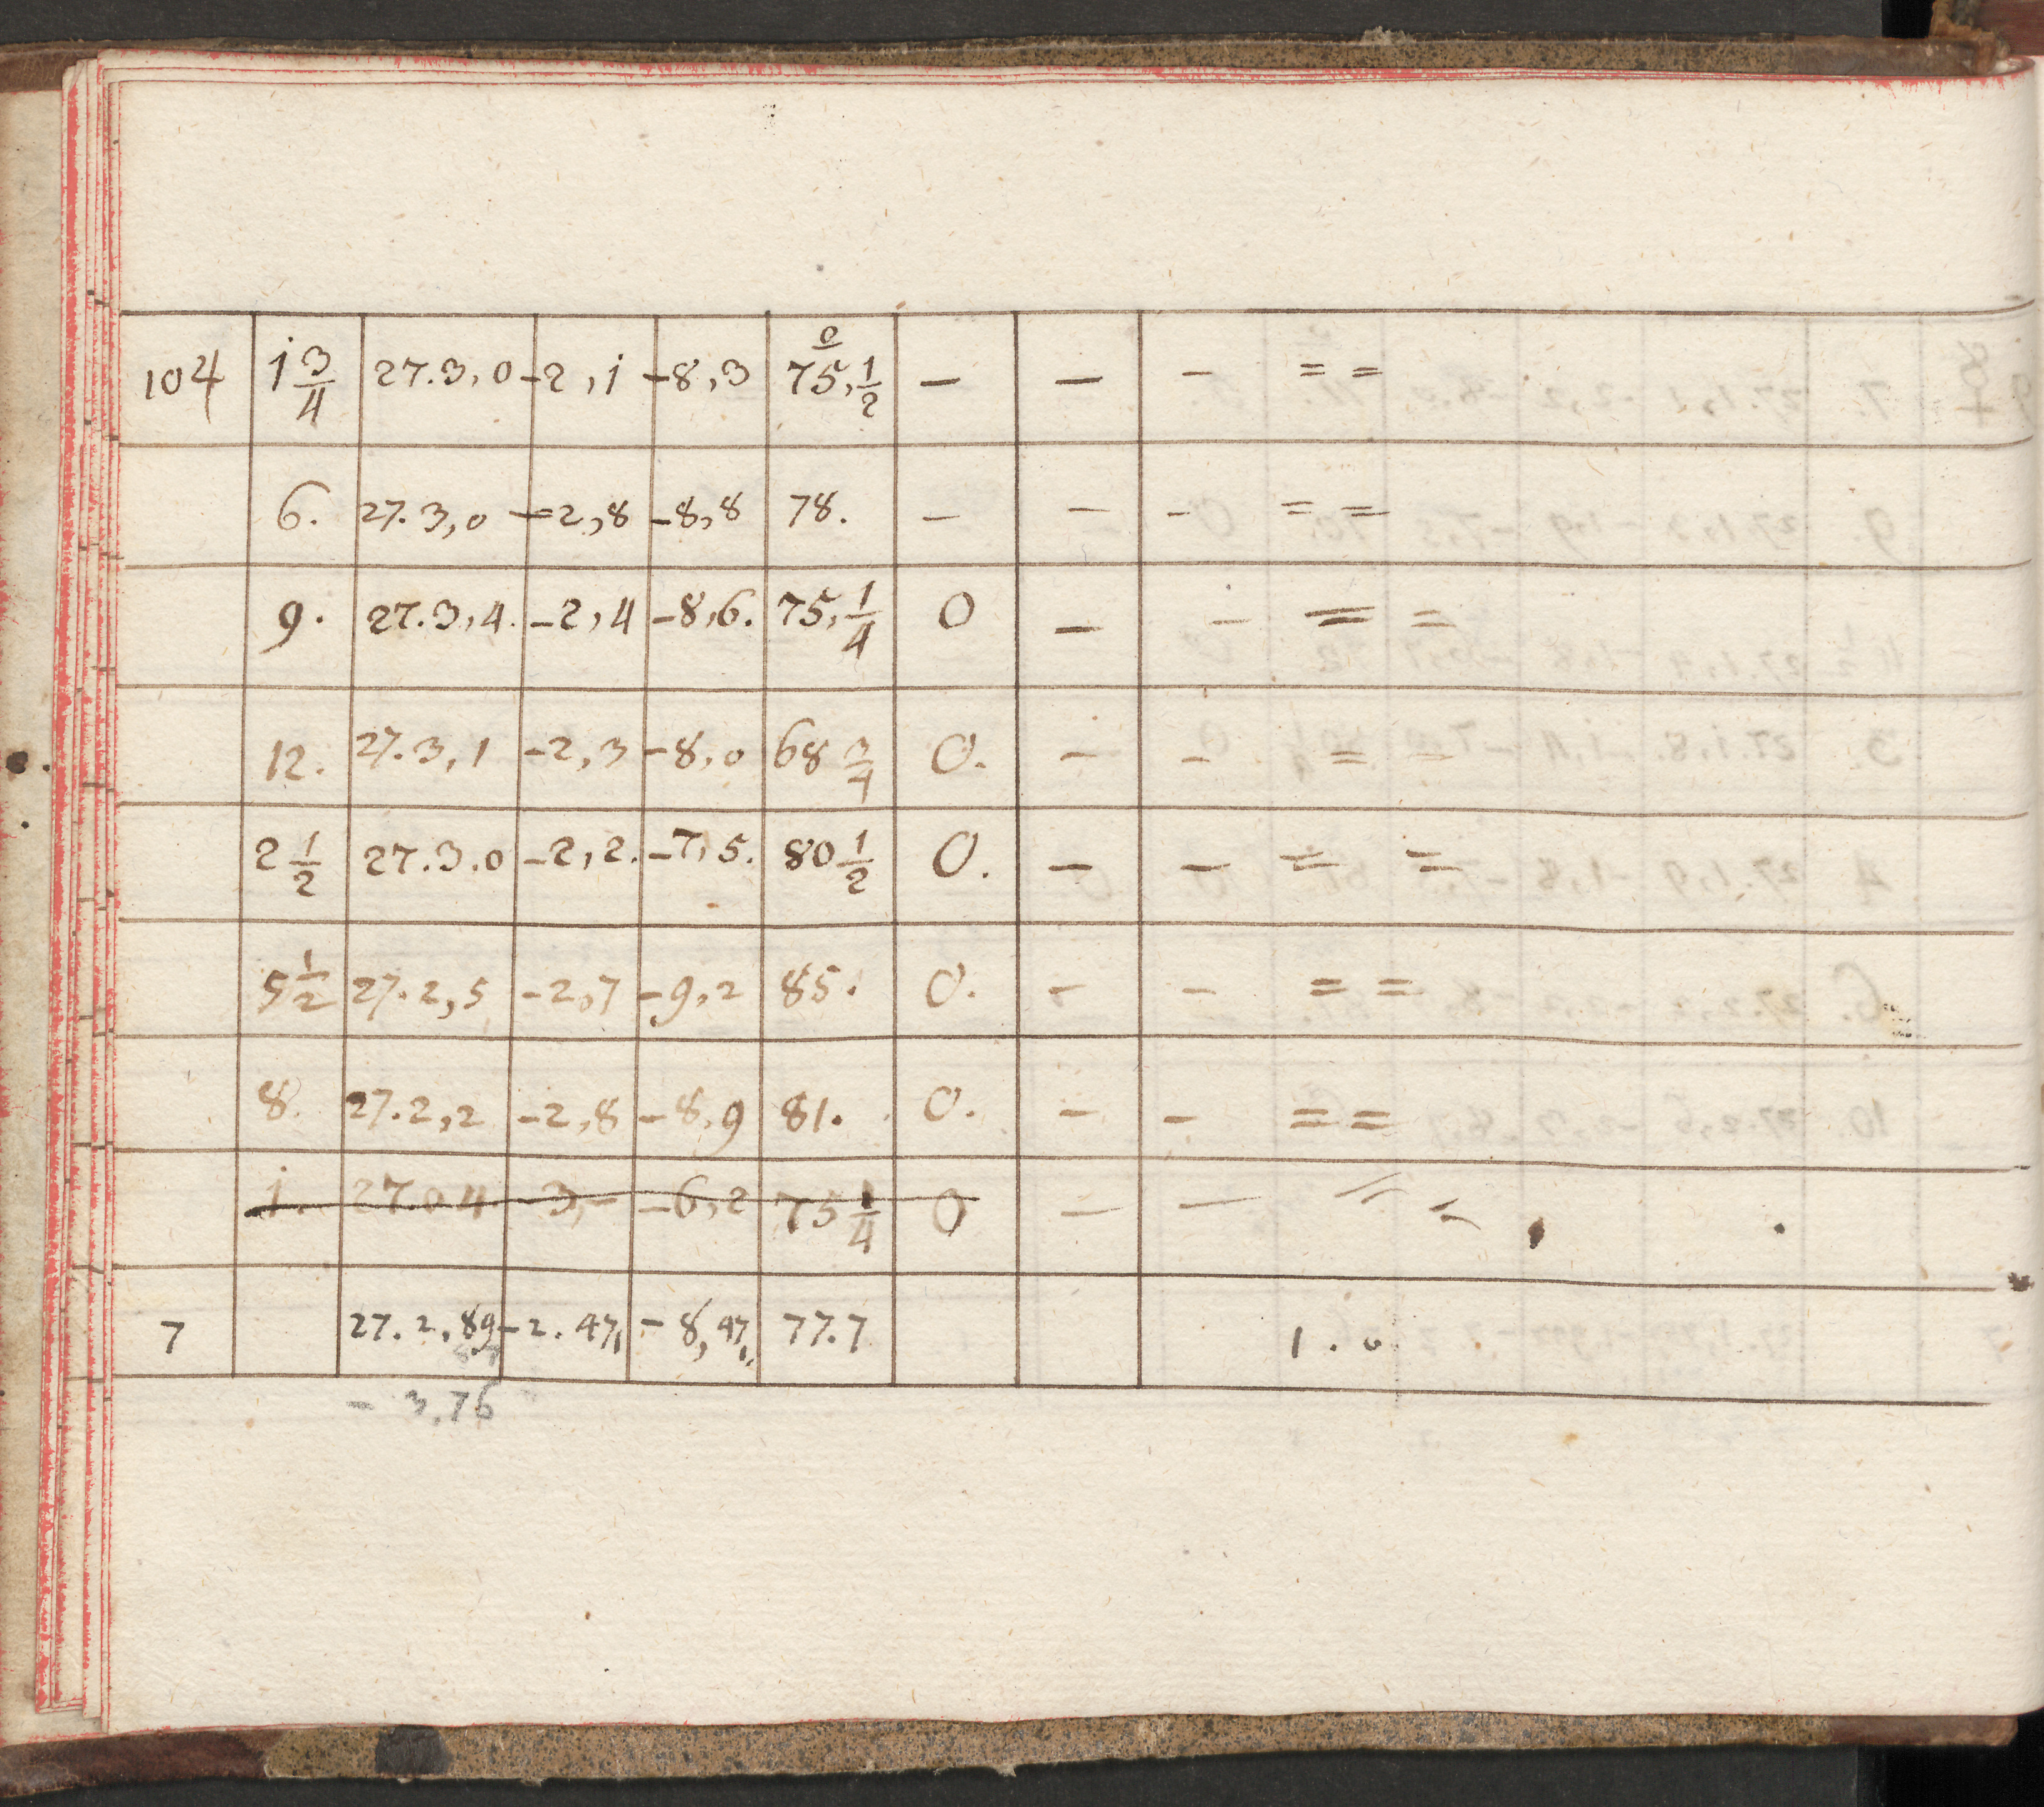bordered: (122, 310, 2023, 1394)
